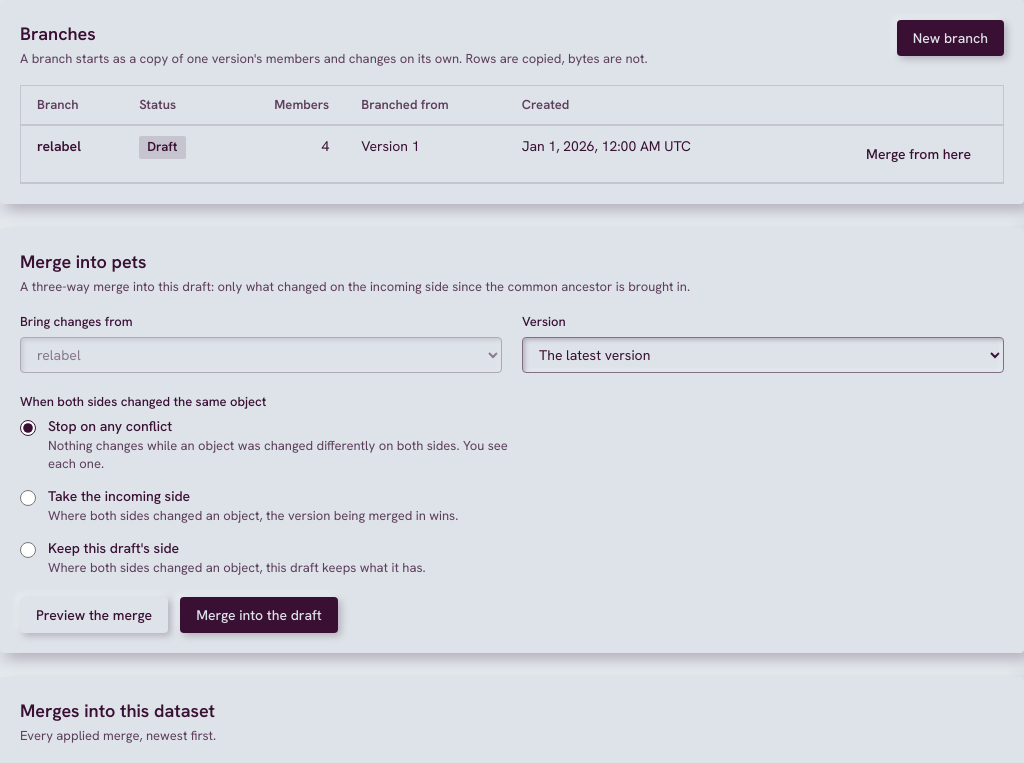
Test: branches › applies a merge that takes the incoming side and offers a snapshot
What coordinates should you click on to do the following:
click the radio button labelled "Take the incoming side"
I would click on:
 (28, 498)
Its box is [20, 490, 36, 506].
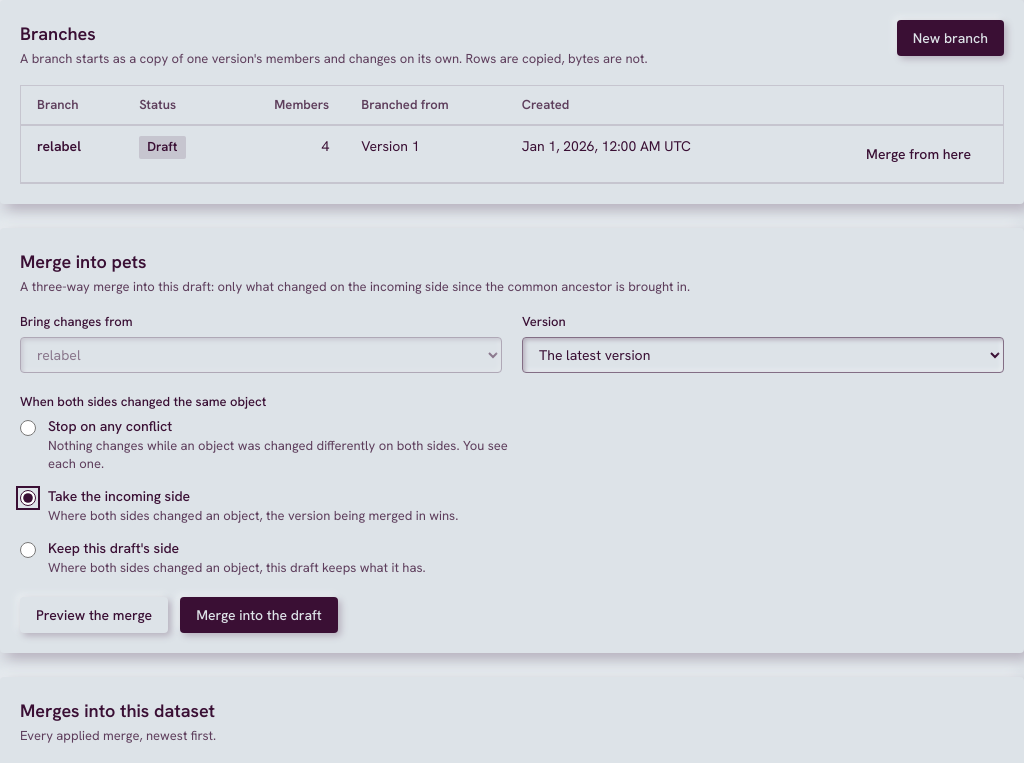
What coordinates should you click on to do the following:
click the button "Merge into the draft"
I would click on:
 (259, 615)
Its box is [180, 597, 338, 633].
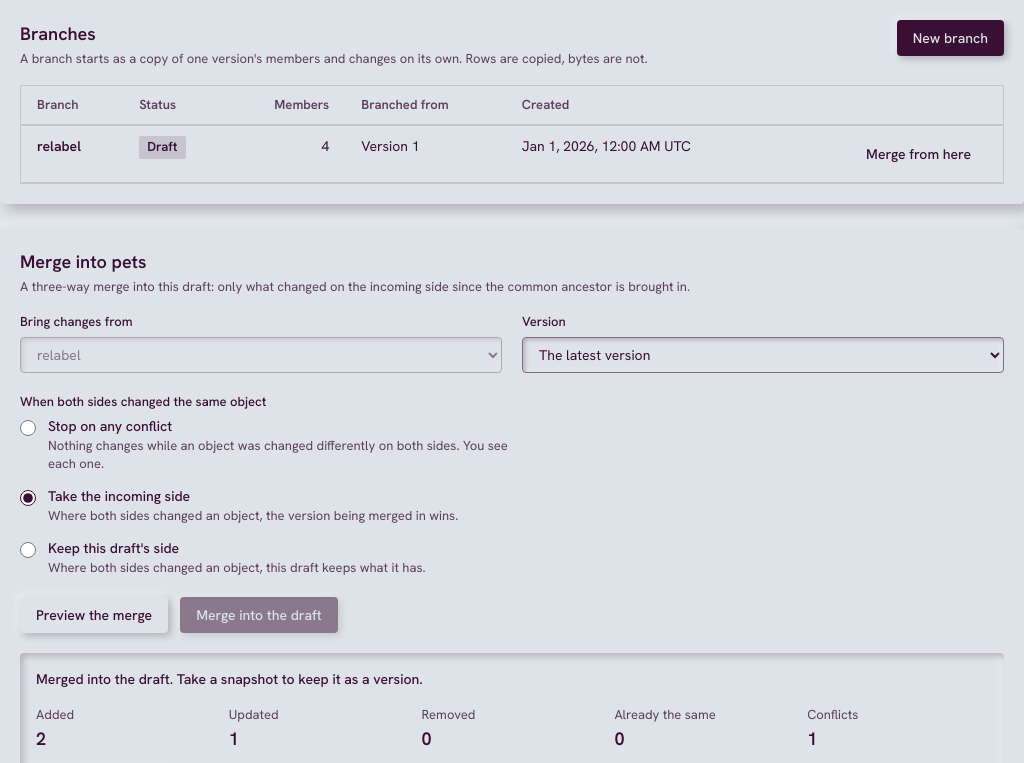
expect the text "Merged into the draft" is shown: met, box [36, 670, 423, 688]
expect the button "Merge into the draft" is disabled: met, box [180, 597, 338, 633]
